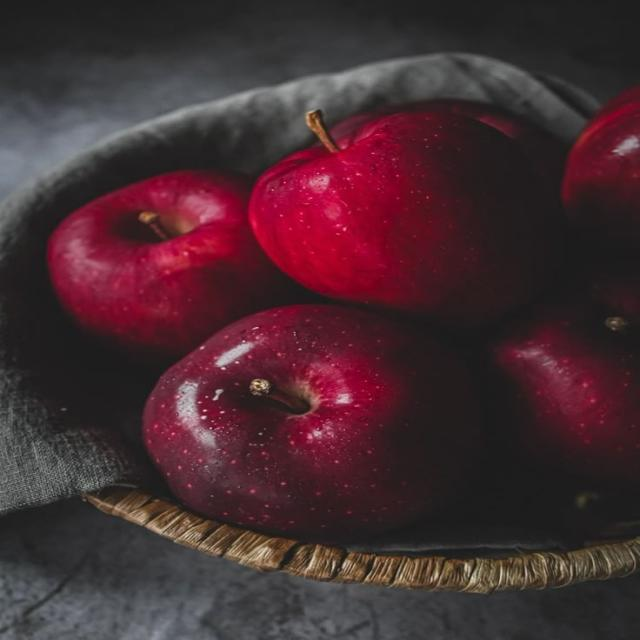apple: (144, 305, 482, 542), (250, 111, 561, 326), (48, 171, 293, 361), (493, 281, 639, 490), (331, 98, 566, 188), (562, 88, 639, 252)
